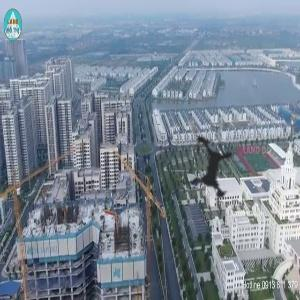drone: (139, 97, 279, 237)
